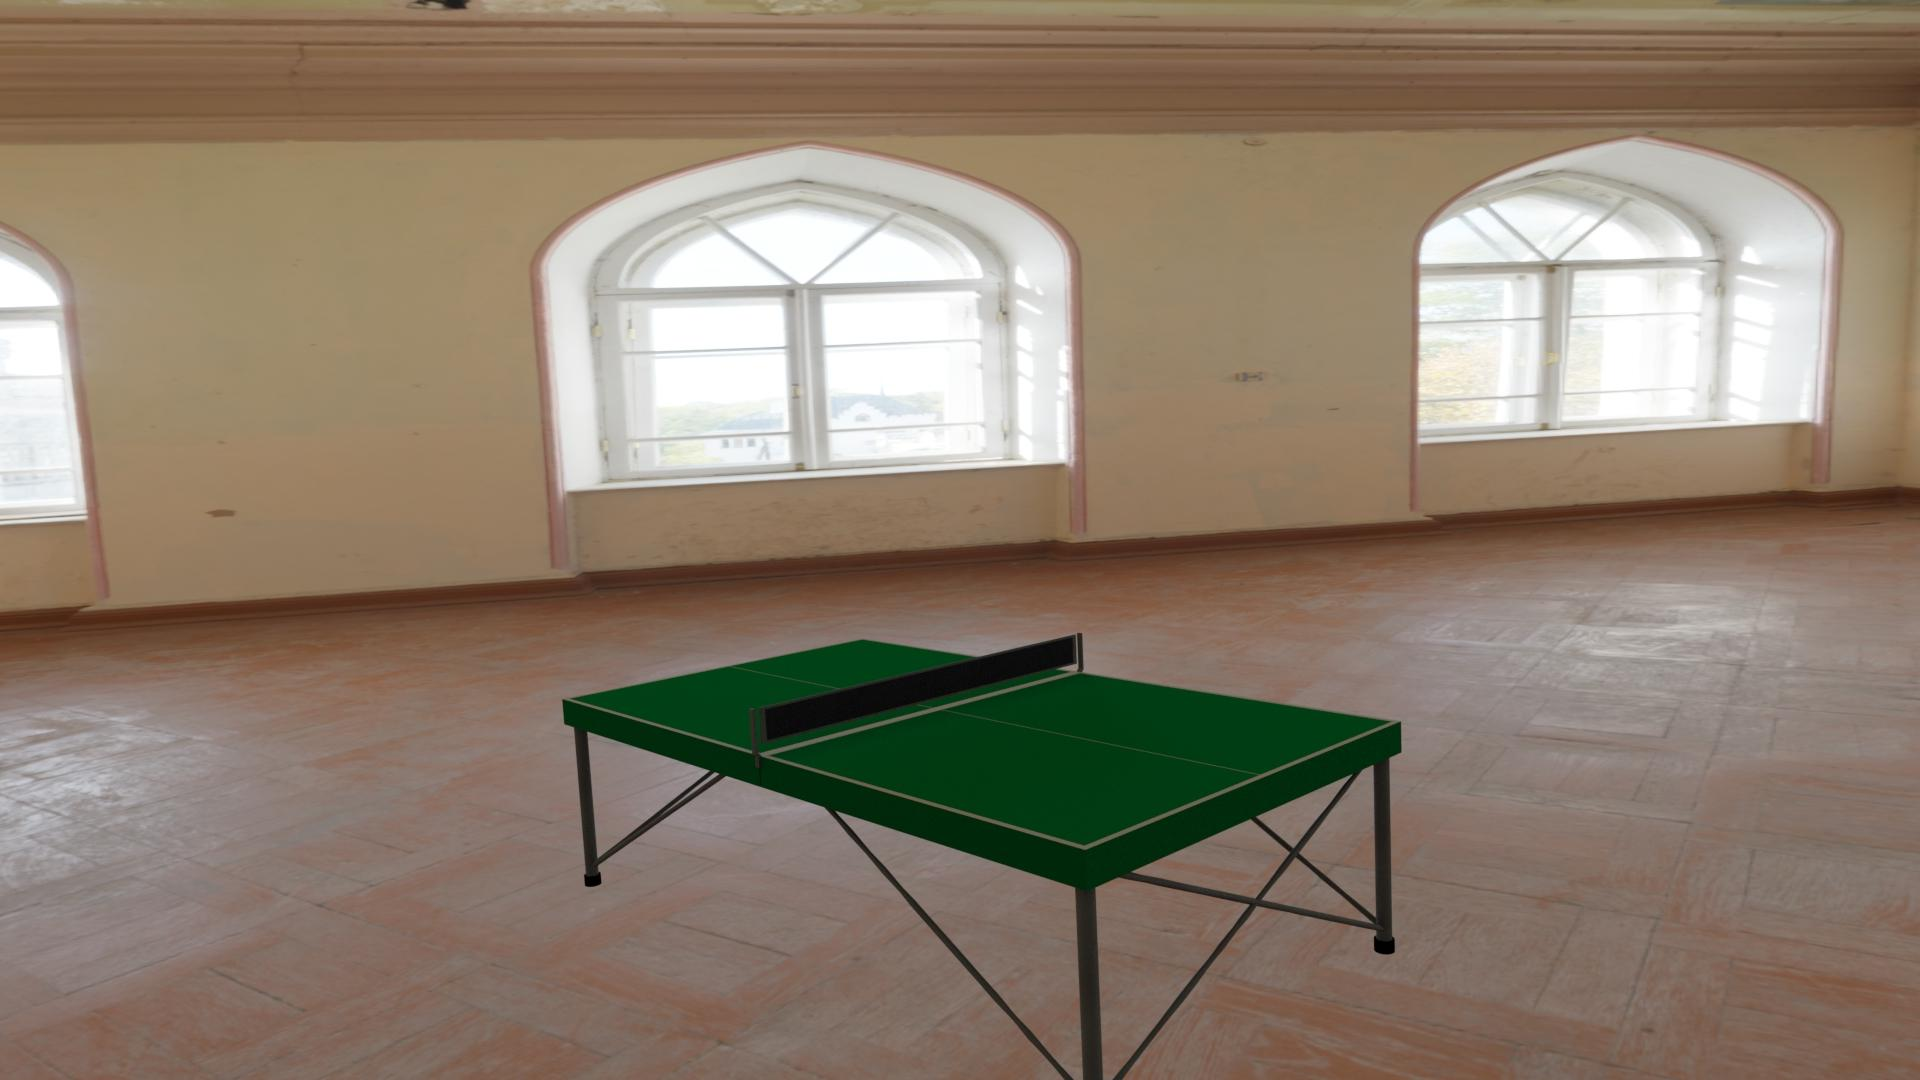table: (570, 640, 1393, 845)
